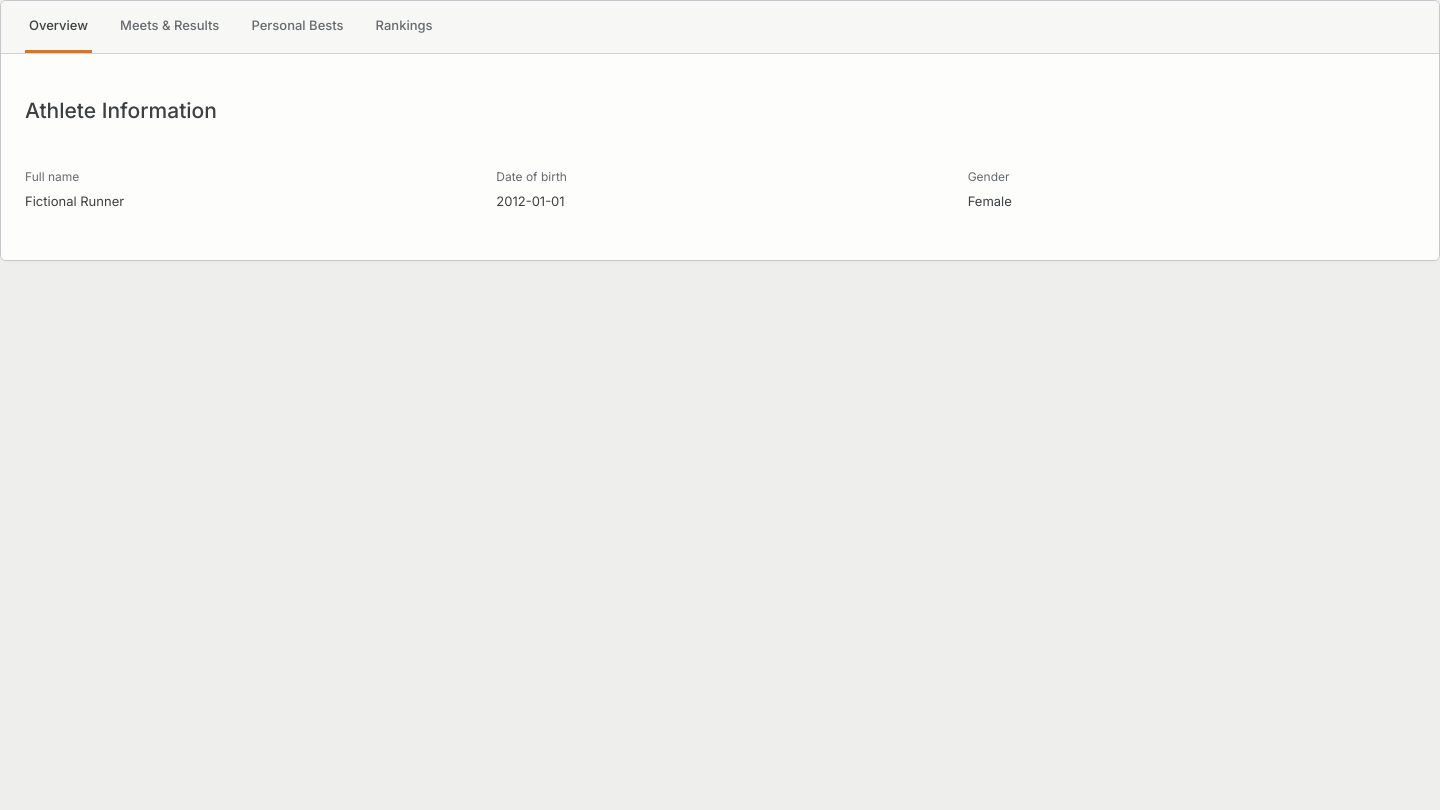
Test case: athlete profile portal › offers personal bests without staff notes or editing actions
The image size is (1440, 810).
Click the tab "Personal Bests". click: (298, 27)
box: [247,1,348,53]
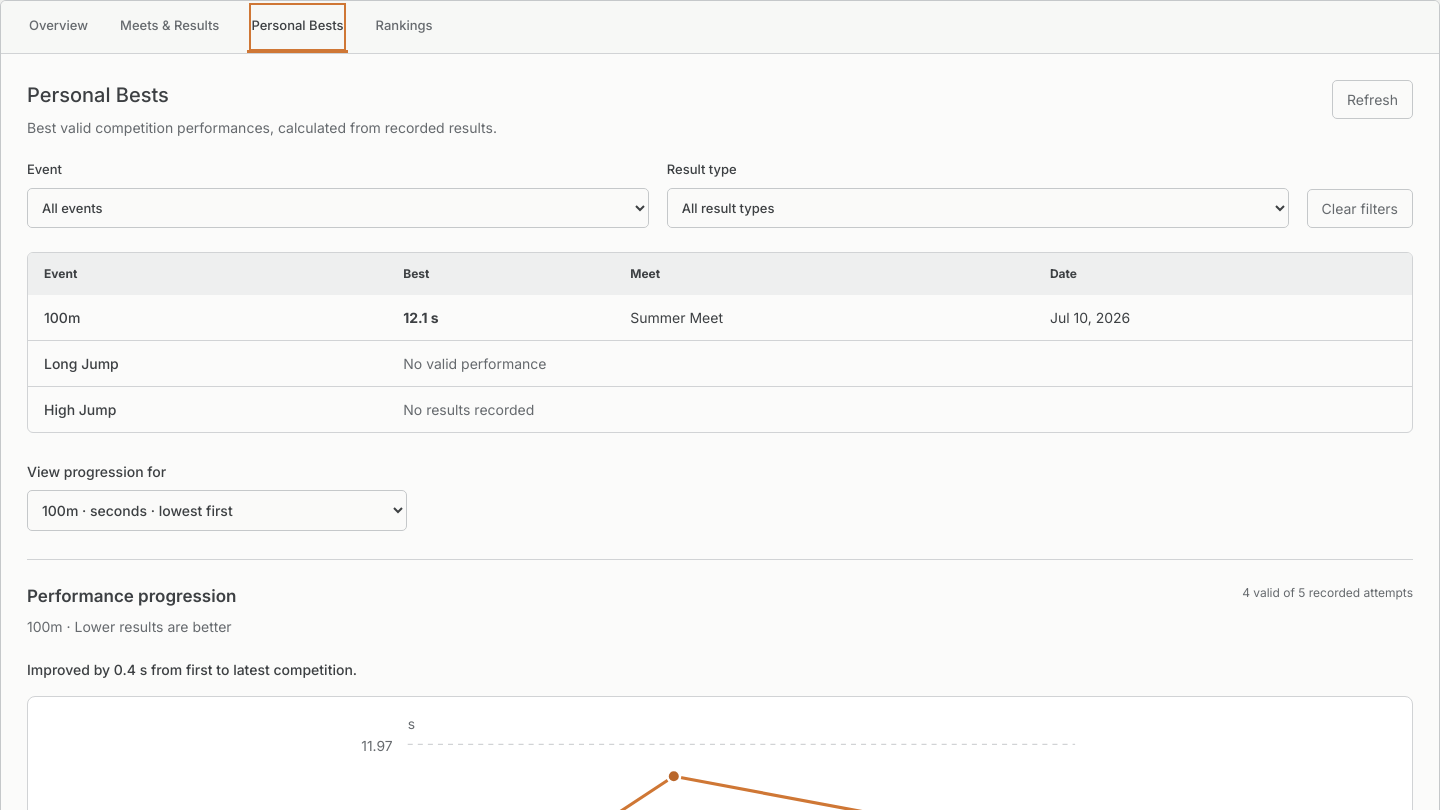
Now the table named "Personal bests by event" is shown, box [28,252,1412,432]
